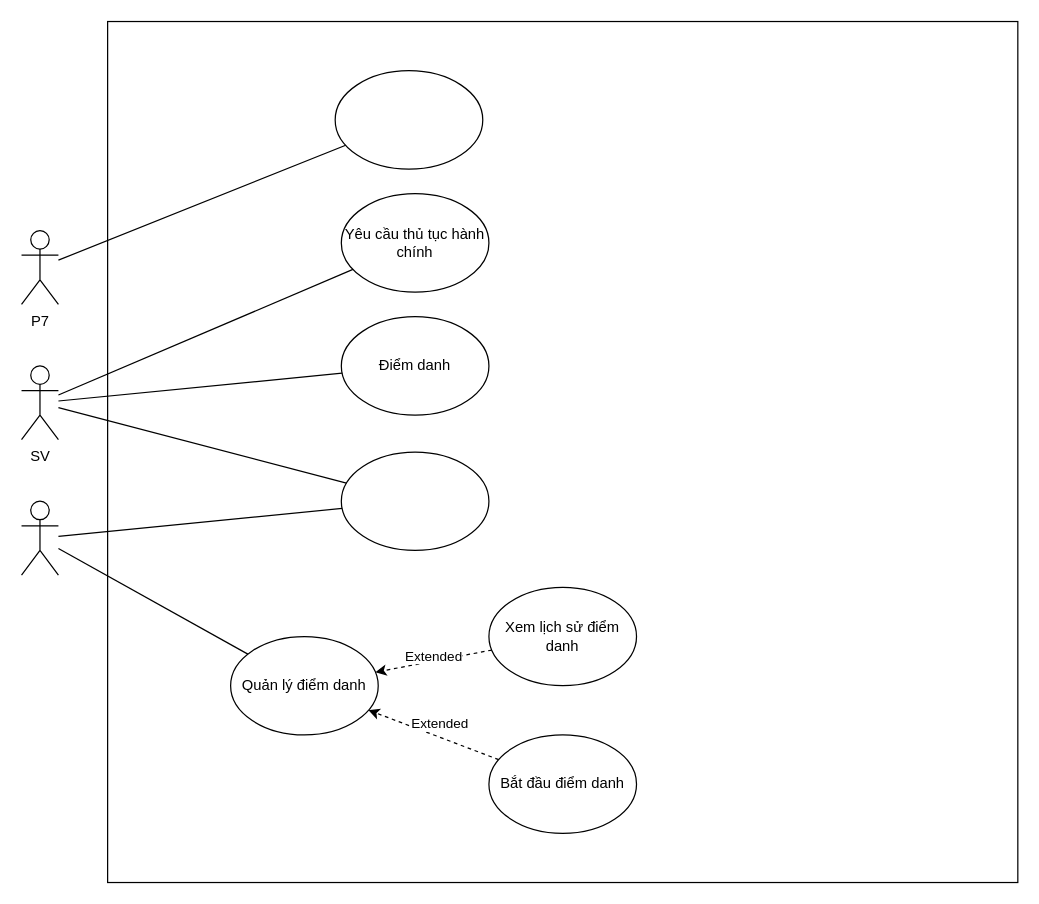
The diagram is 1039 pixels wide and 904 high, and some of its shapes have lost their labels. The shapes that lost their labels are listed below. From the top down, each one's box as (x1, y1, x2, y2) in pixels, then its label:
(334, 69, 483, 169): Xử lý các thủ tục hành chính
(340, 451, 489, 550): Đăng nhập qua Outlook
(20, 500, 58, 575): GV
